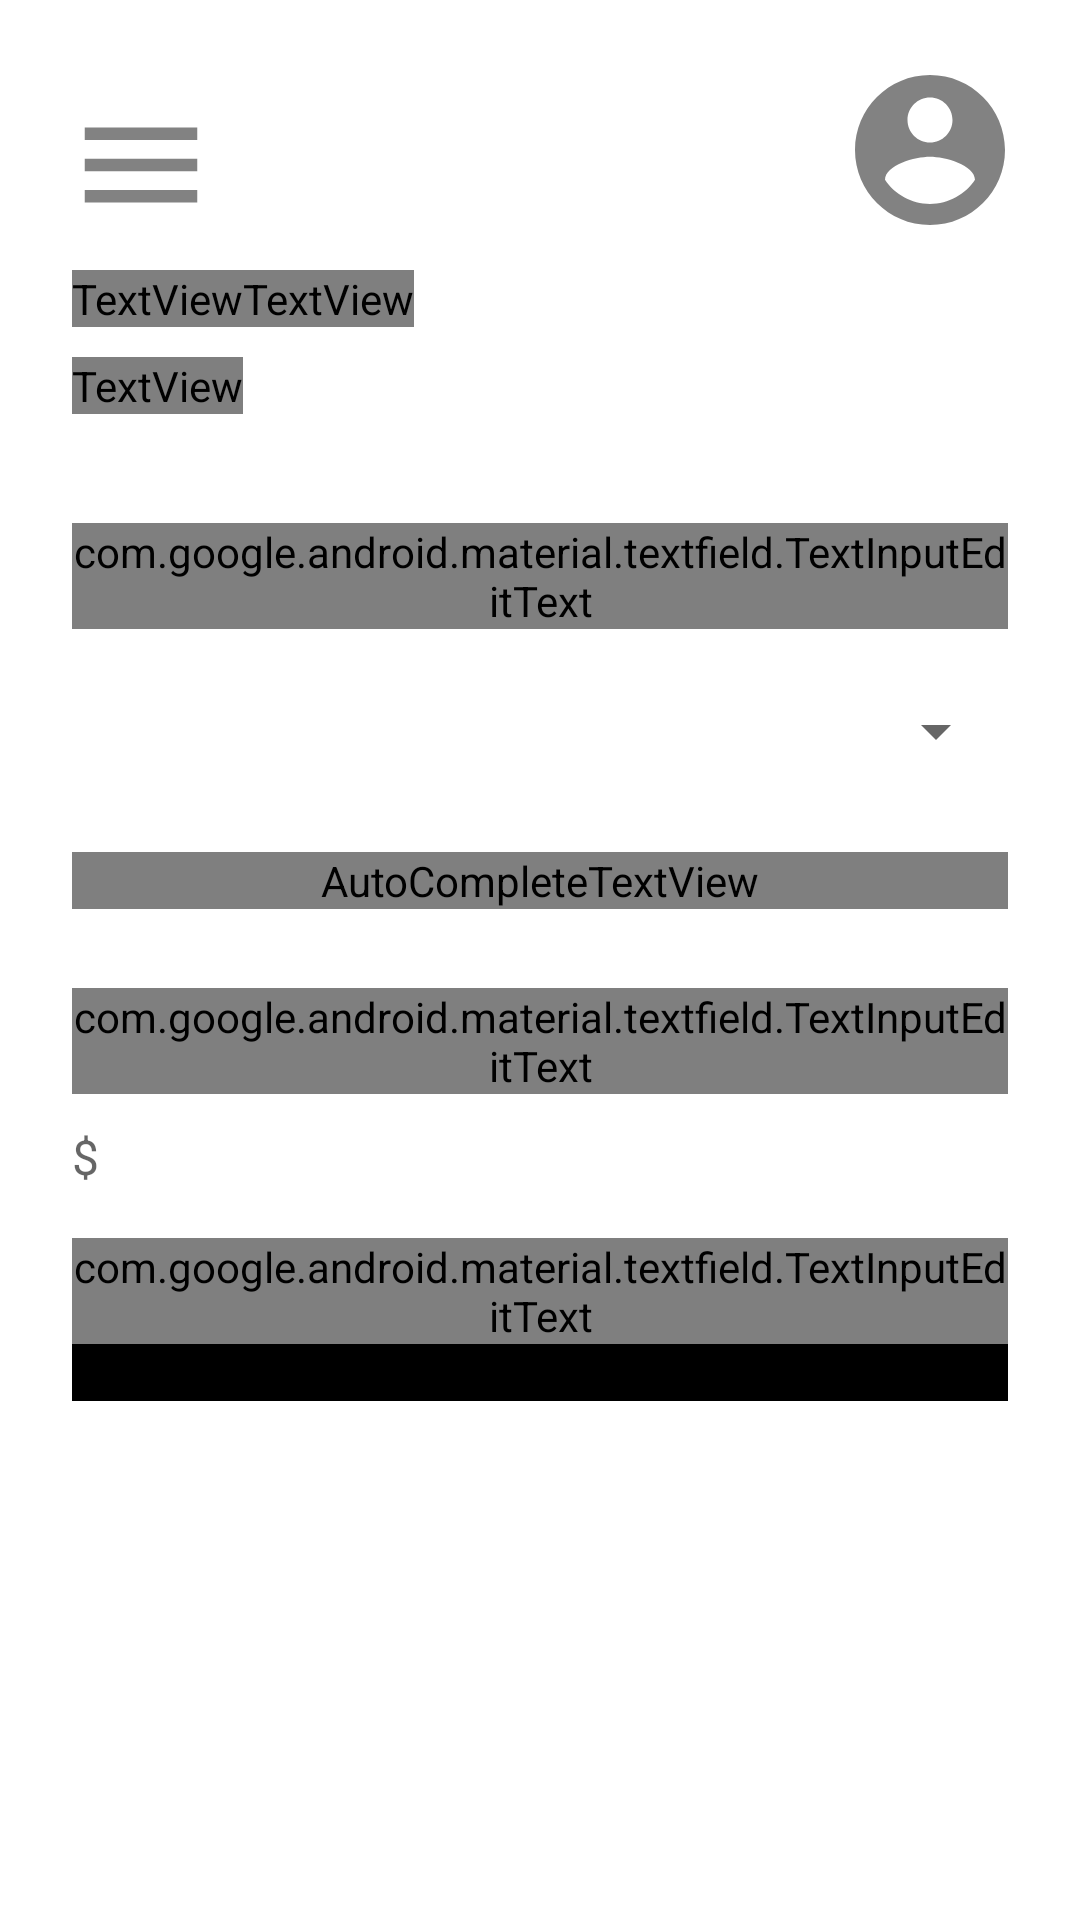

Where to tap for icons on this 1080*1920 app screen, as [x,y]:
account circle: [930,150]
menu: [141,165]
